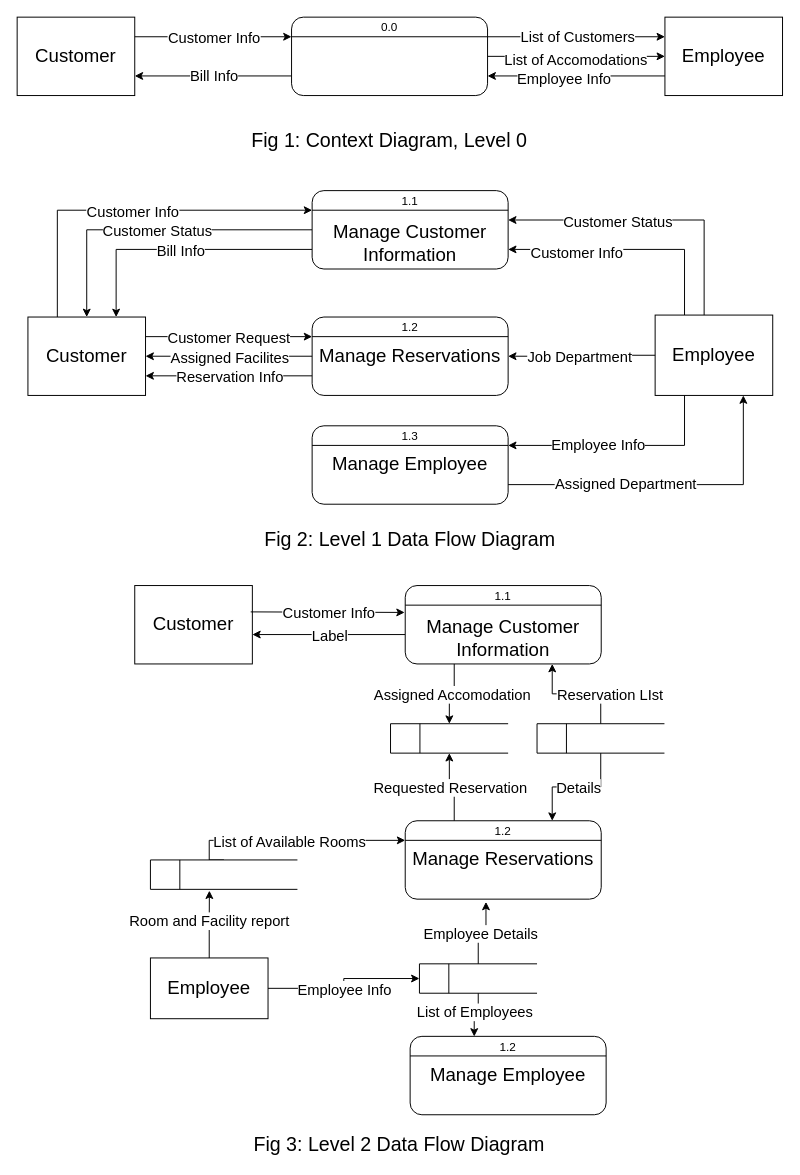
Some shapes in this 800 by 1175 pixel diagram are drawn without their labels. The box of each missing label's shape, as (x1, y1, x2, y2) in pixels:
D1 Customer DB: (390, 723, 508, 753)
D2 Reservation DB: (536, 723, 664, 753)
D3 Employee DB: (418, 963, 537, 993)
D4 Room/Facilities DB: (149, 859, 297, 889)
Hotel Management System: (291, 16, 488, 96)
